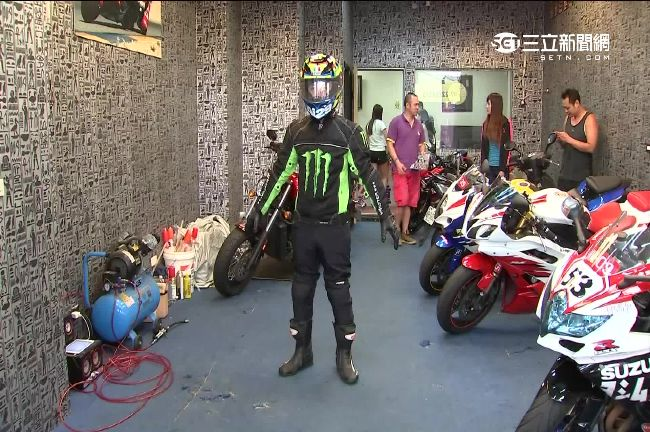helmet: (300, 54, 349, 119)
